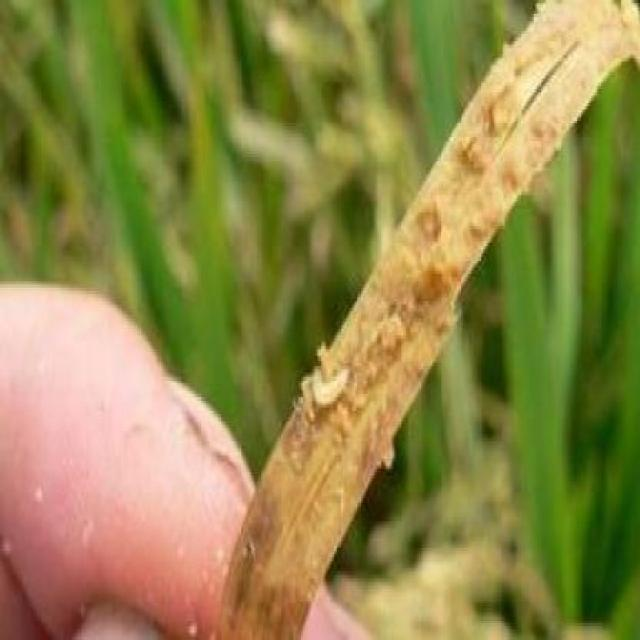whorl-maggot: (305, 360, 360, 417)
